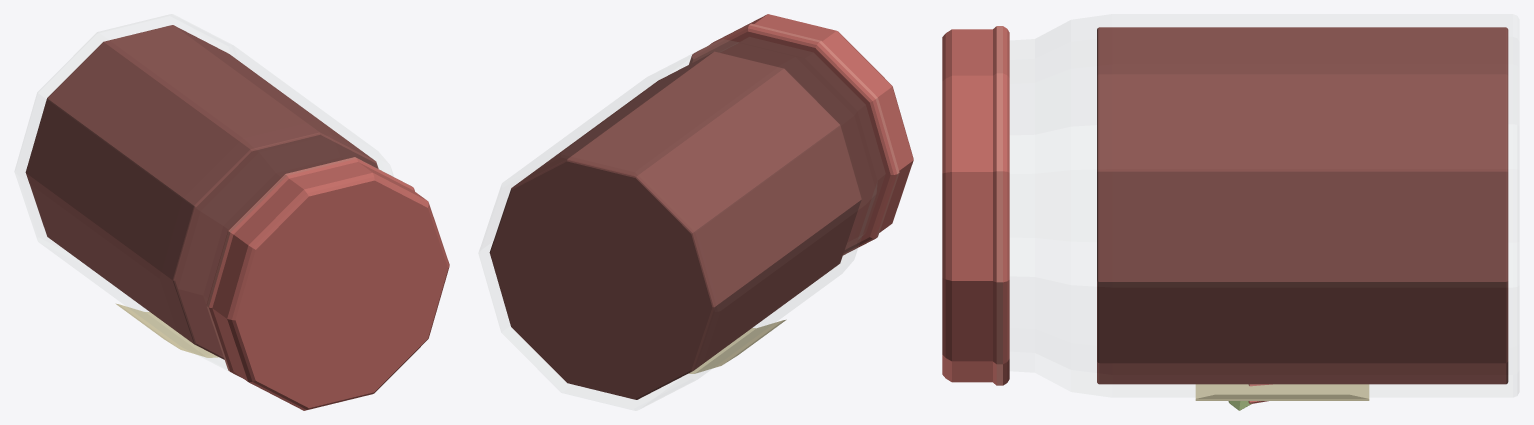
Rendered from jam_jar.glb.
3 renders of one model, left to right at view 1: azimuth 30°, elevation 25°; view 2: azimuth 150°, elevation 25°; view 3: azimuth 270°, elevation 25°, orthographic. The views are drawn at different scales.
Visible parts, largest first — view 1: jam_jar; view 2: jam_jar; view 3: jam_jar.
Boxes of the visible parts, box(x1,y1,x2,y2) form: jam_jar: box(15, 14, 449, 410); jam_jar: box(479, 14, 913, 410); jam_jar: box(942, 14, 1518, 410).
Bounding box in the file's own units: 0.069 × 0.0702 × 0.103.
